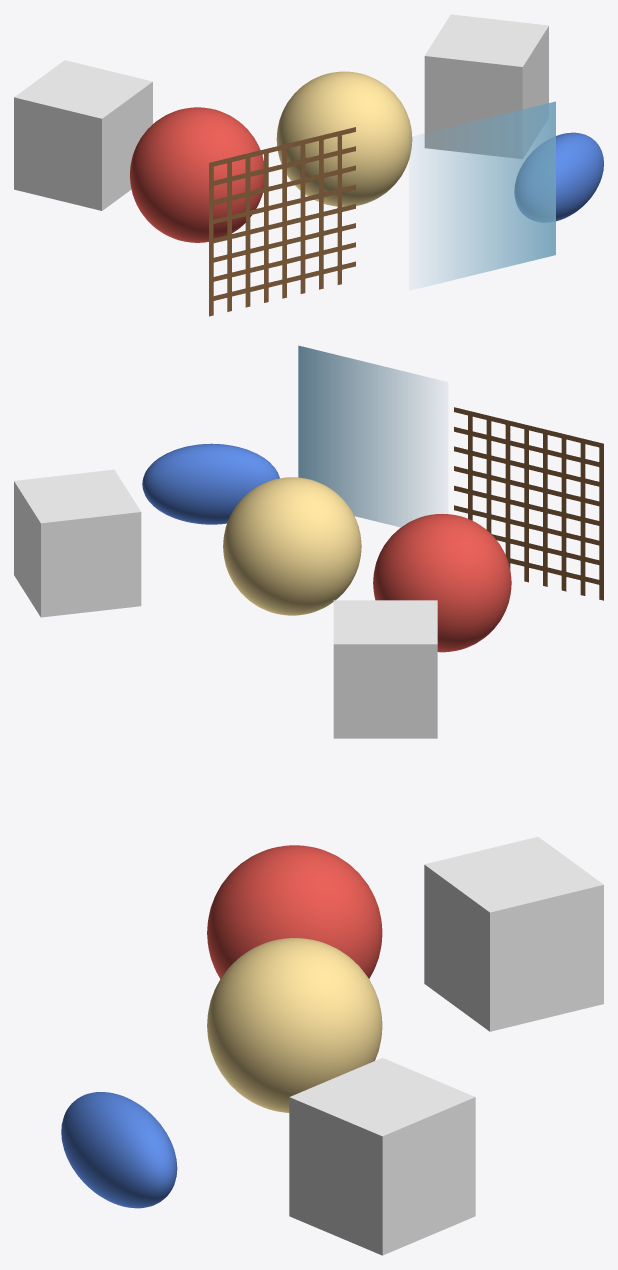
3 renders of one model, top to bottom at view 1: azimuth 30°, elevation 25°; view 2: azimuth 150°, elevation 25°; view 3: azimuth 270°, elevation 25°, orthographic. The views are drawn at different scales.
Visible parts, largest first — view 1: PaneBlended, BoxMirrored, BoxMatrix, Red, Gold, LatticeMasked, BlueStretched; view 2: PaneBlended, BoxMatrix, Gold, BoxMirrored, Red, LatticeMasked, BlueStretched; view 3: BoxMatrix, BoxMirrored, Gold, Red, BlueStretched.
Boxes of the visible parts, box(x1,y1,x2,y2) form: PaneBlended: box(420, 101, 555, 287); BoxMirrored: box(14, 60, 152, 210); BoxMatrix: box(424, 14, 548, 158); Red: box(130, 107, 263, 242); Gold: box(276, 71, 412, 206); LatticeMasked: box(209, 127, 355, 316); BlueStretched: box(514, 132, 603, 221); PaneBlended: box(298, 345, 436, 527); BoxMatrix: box(14, 469, 141, 617); Gold: box(223, 477, 361, 615); BoxMirrored: box(333, 600, 437, 738); Red: box(373, 513, 511, 652); LatticeMasked: box(454, 407, 603, 600); BlueStretched: box(142, 443, 279, 524); BoxMatrix: box(289, 1058, 475, 1255); BoxMirrored: box(424, 836, 603, 1031); Gold: box(207, 938, 382, 1112); Red: box(207, 845, 382, 978); BlueStretched: box(61, 1092, 177, 1208).
Size of what is drawn, in the model's own units: 8.09 by 2.5 by 6.72.
6 materials, 2 textured.
